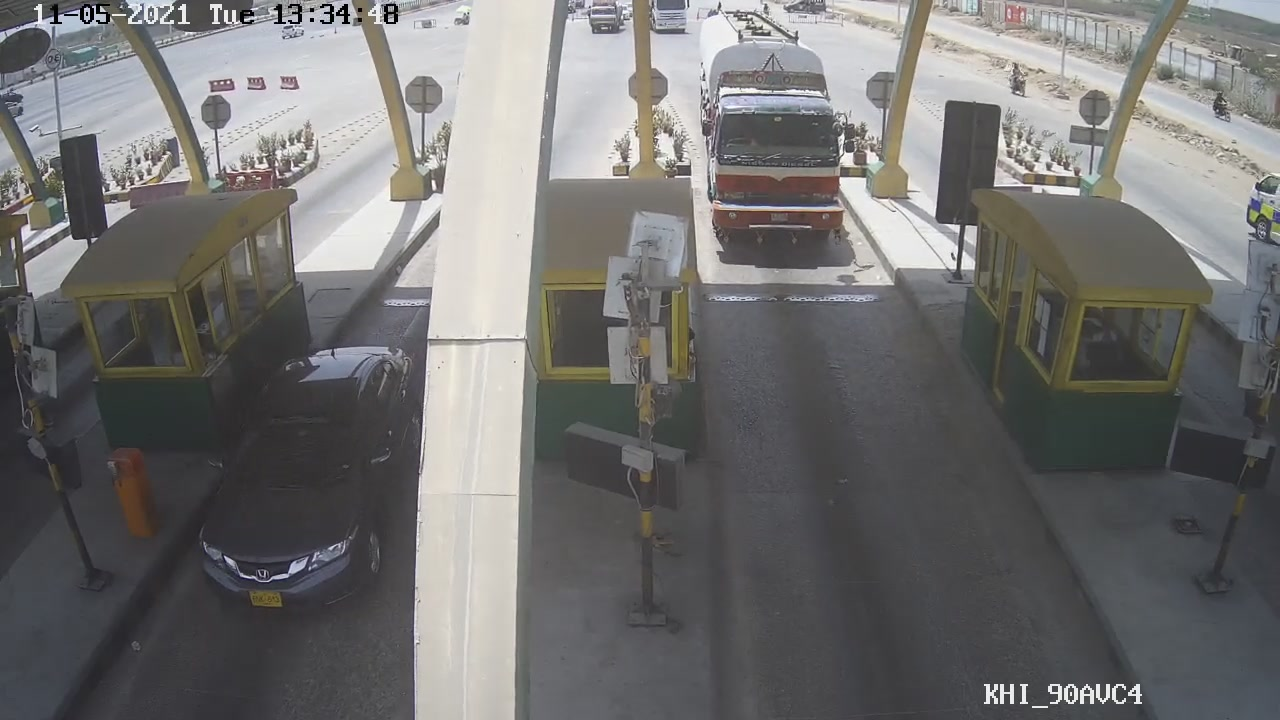F6: (696, 7, 852, 253)
